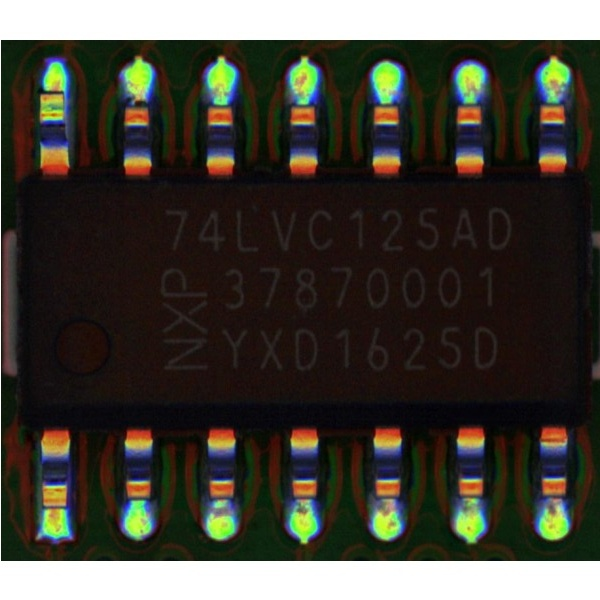Bad_qiaojiao: (44, 490, 60, 522), (47, 79, 60, 109)
